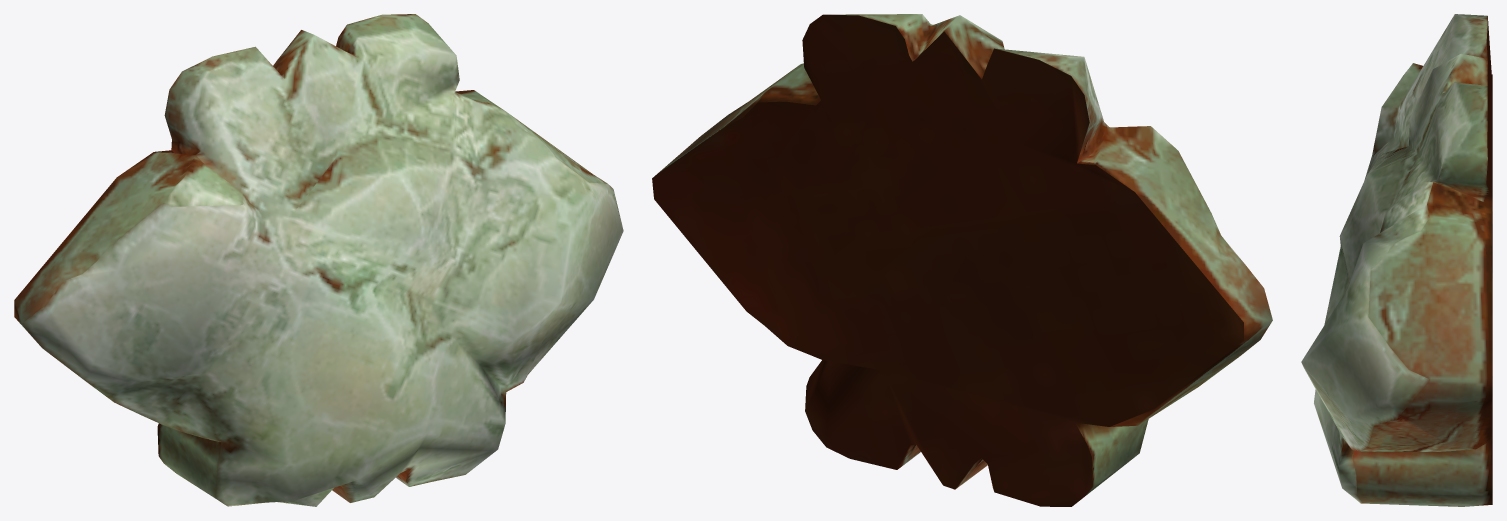
File: Ruins_Collumn_Dmg_B.fbx
The picture shows the model from 3 angles, left to right: view 1: azimuth 30°, elevation 25°; view 2: azimuth 150°, elevation 25°; view 3: azimuth 270°, elevation 25°; orthographic projection. The views are drawn at different scales.
Visible parts, largest first — view 1: Ruins_Collumn_Dmg_B; view 2: Ruins_Collumn_Dmg_B; view 3: Ruins_Collumn_Dmg_B.
Boxes of the visible parts, left/top/right/bottom form: Ruins_Collumn_Dmg_B: left=14, top=14, right=623, bottom=506; Ruins_Collumn_Dmg_B: left=652, top=14, right=1272, bottom=506; Ruins_Collumn_Dmg_B: left=1301, top=14, right=1492, bottom=506.
Bounding box in the file's own units: 423 × 307 × 130.
